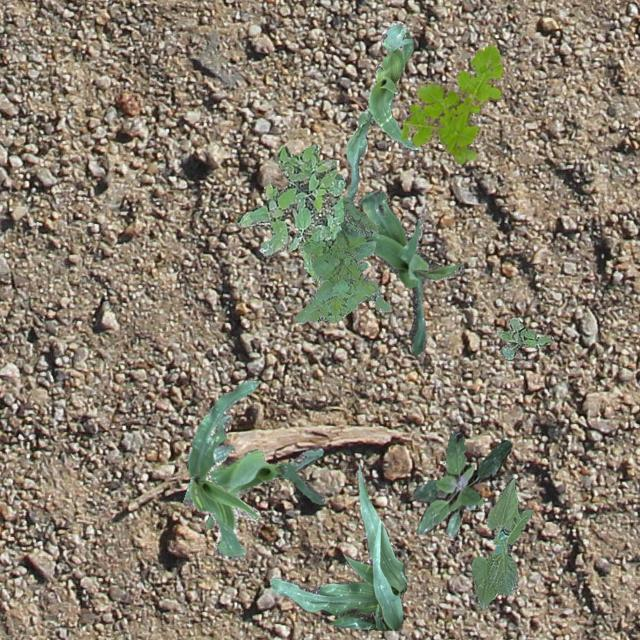crop: (268, 463, 406, 630), (356, 188, 464, 354), (344, 20, 420, 202), (186, 378, 260, 558), (182, 446, 324, 530), (470, 477, 532, 608)
weed: (236, 144, 344, 282), (400, 42, 502, 164), (294, 195, 390, 322), (412, 431, 511, 536), (496, 316, 552, 359)
